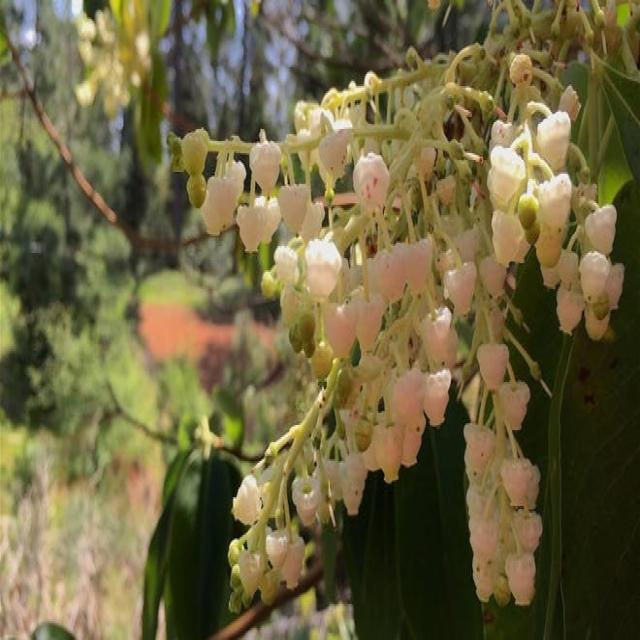Arbutus menziesii: (162, 0, 629, 627)
